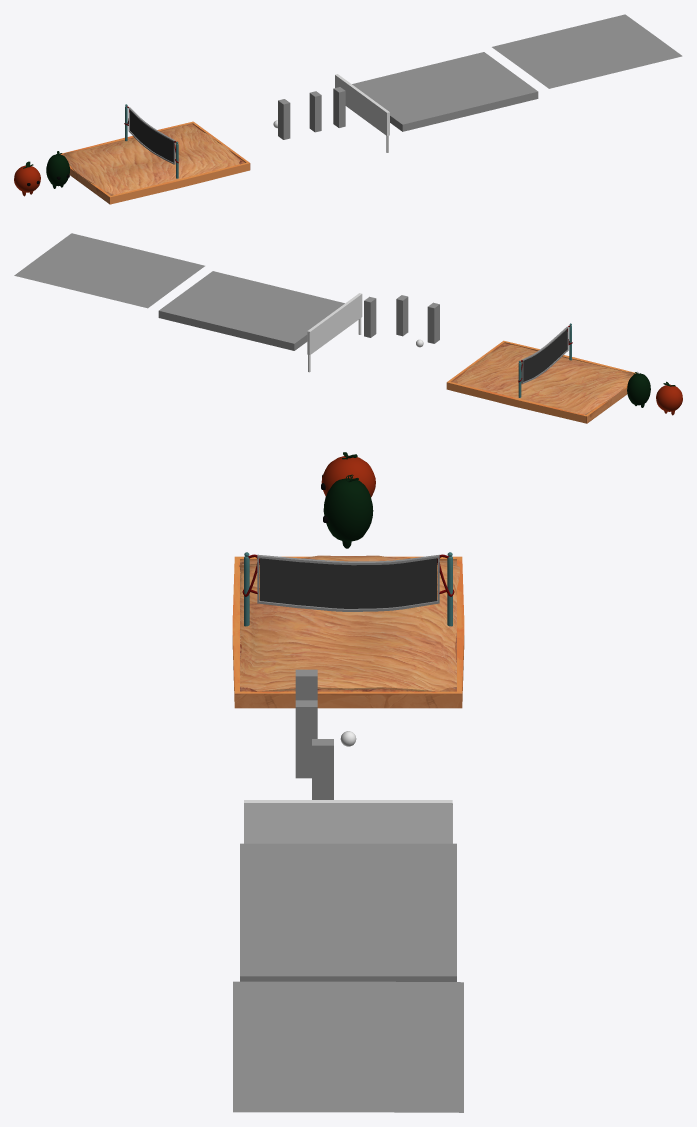
Rendered from Grape_ball_01.FBX.
3 views of the same model, one above another, from view 1: azimuth 30°, elevation 25°; view 2: azimuth 150°, elevation 25°; view 3: azimuth 270°, elevation 25° (orthographic). The views are drawn at different scales.
Parts seen in each view (by area): view 1: Base_002, Base_01, Object001, Box002, Box001, Watermellon_01, Orange_01, Char2_01, Char1_01, Char2_002; view 2: Base_002, Base_01, Object001, Box001, Box002, Watermellon_01, Orange_01, Char1_01, Char2_01, Char2_002; view 3: Object001, Base_01, Base_002, Box002, Box001, Watermellon_01, Char2_01, Char1_01, Orange_01.
Boxes of the visible parts, <box> form: Base_002: <box>60,121,250,204</box>; Base_01: <box>352,52,538,131</box>; Object001: <box>492,14,682,88</box>; Box002: <box>124,104,178,178</box>; Box001: <box>335,74,389,152</box>; Watermellon_01: <box>46,151,69,188</box>; Orange_01: <box>14,161,40,196</box>; Char2_01: <box>309,91,321,132</box>; Char1_01: <box>333,87,345,127</box>; Char2_002: <box>278,99,290,139</box>; Base_002: <box>446,340,635,423</box>; Base_01: <box>158,271,344,350</box>; Object001: <box>14,233,204,308</box>; Box001: <box>307,293,362,372</box>; Box002: <box>518,323,572,397</box>; Watermellon_01: <box>627,372,650,407</box>; Orange_01: <box>656,381,682,415</box>; Char1_01: <box>364,296,376,337</box>; Char2_01: <box>396,295,408,336</box>; Char2_002: <box>427,302,439,343</box>; Object001: <box>233,981,463,1112</box>; Base_01: <box>240,843,456,981</box>; Base_002: <box>232,555,464,708</box>; Box002: <box>242,552,454,626</box>; Box001: <box>244,800,452,843</box>; Watermellon_01: <box>323,474,373,548</box>; Char2_01: <box>295,700,317,778</box>; Char1_01: <box>312,739,333,799</box>; Orange_01: <box>321,452,375,497</box>.
Bounding box in the file's own units: 1328 × 123 × 209.
